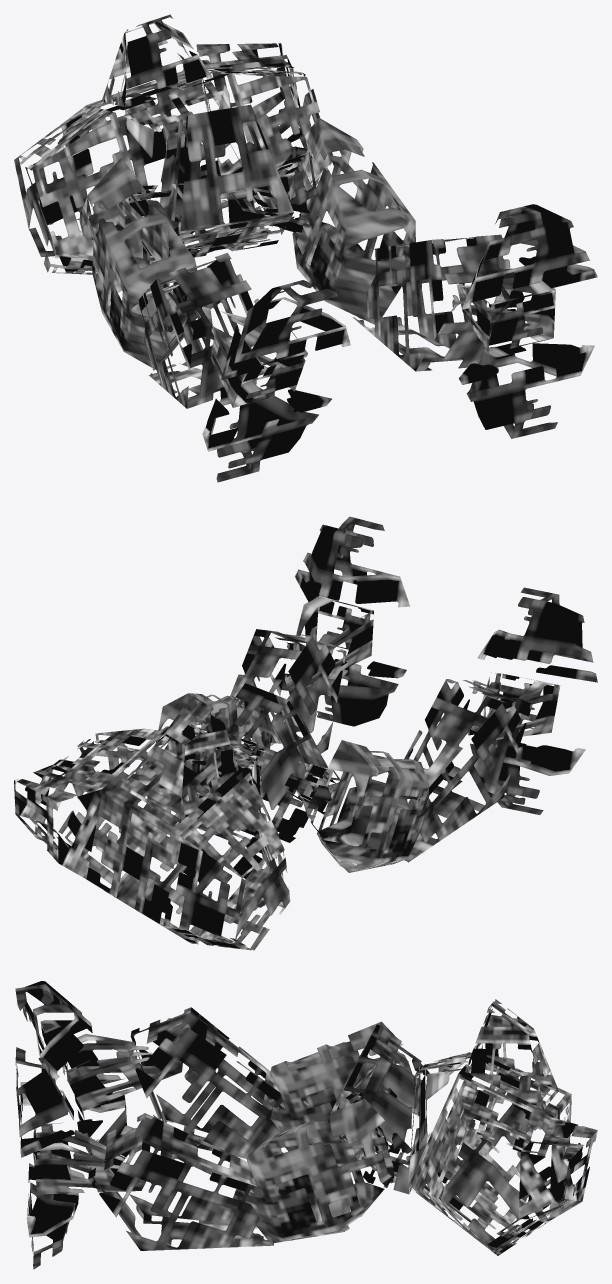
The model's file is laohu_wreck_backward.glb.
3 renders of one model, top to bottom at view 1: azimuth 30°, elevation 25°; view 2: azimuth 150°, elevation 25°; view 3: azimuth 270°, elevation 25°, orthographic. The views are drawn at different scales.
Parts seen in each view (by area): view 1: gh_lfoot; view 2: gh_lfoot; view 3: gh_lfoot.
Part boxes in pixels (x1,y1,x2,y2): gh_lfoot: [14, 14, 597, 482]; gh_lfoot: [14, 516, 597, 950]; gh_lfoot: [15, 981, 597, 1269].
Bounding box in the file's own units: 6.65 × 4.62 × 10.58.
Materials: 1 (1 with a texture image).
